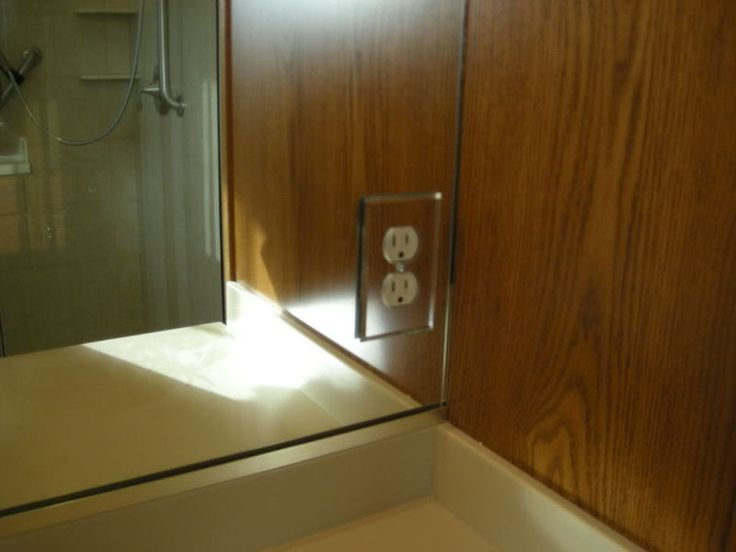outlet: (388, 276, 412, 305), (390, 233, 413, 260)
